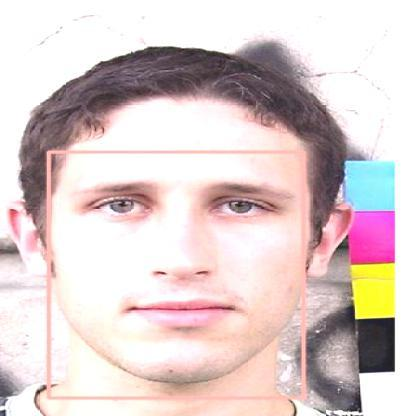without_mask: (48, 152, 303, 398)
